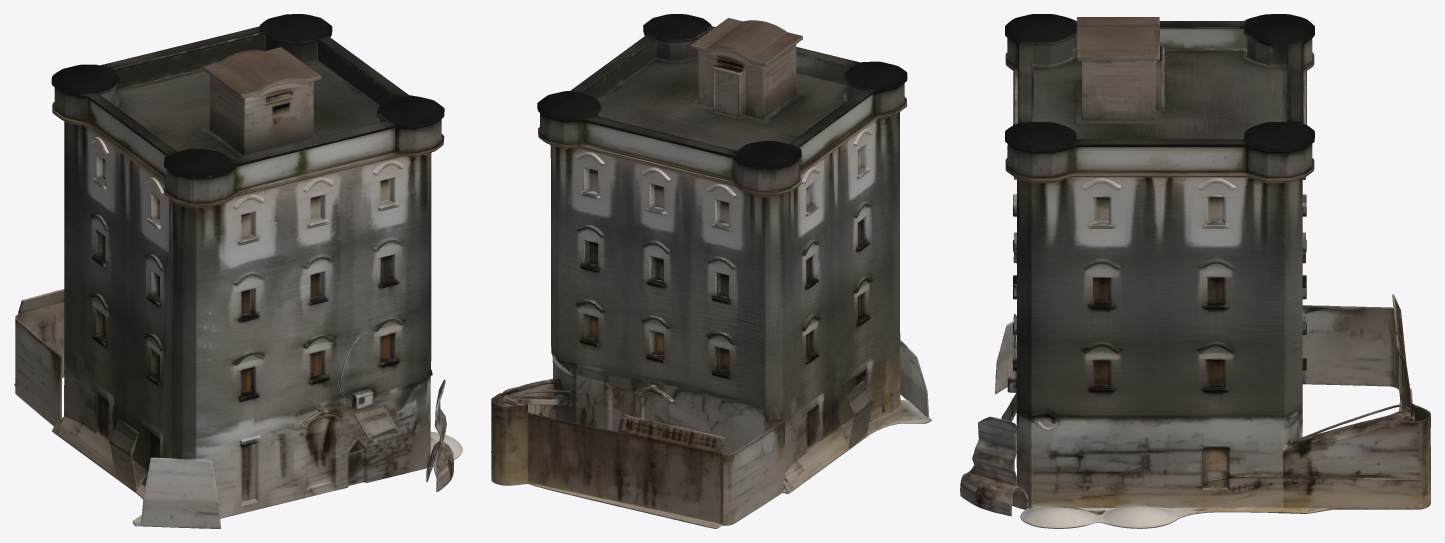
File: 花都碉堡.glb
3 renders of one model, left to right at view 1: azimuth 30°, elevation 25°; view 2: azimuth 150°, elevation 25°; view 3: azimuth 270°, elevation 25°, orthographic. The views are drawn at different scales.
Visible parts, largest first — view 1: texture_pbr_v128; view 2: texture_pbr_v128; view 3: texture_pbr_v128.
Part boxes in pixels (box(x1,y1,x2,y2)): texture_pbr_v128: box(14, 14, 462, 528); texture_pbr_v128: box(491, 14, 931, 528); texture_pbr_v128: box(960, 14, 1430, 528).
Bounding box in the file's own units: 0.5019 × 0.5801 × 0.5981.
1 material, 1 textured.
